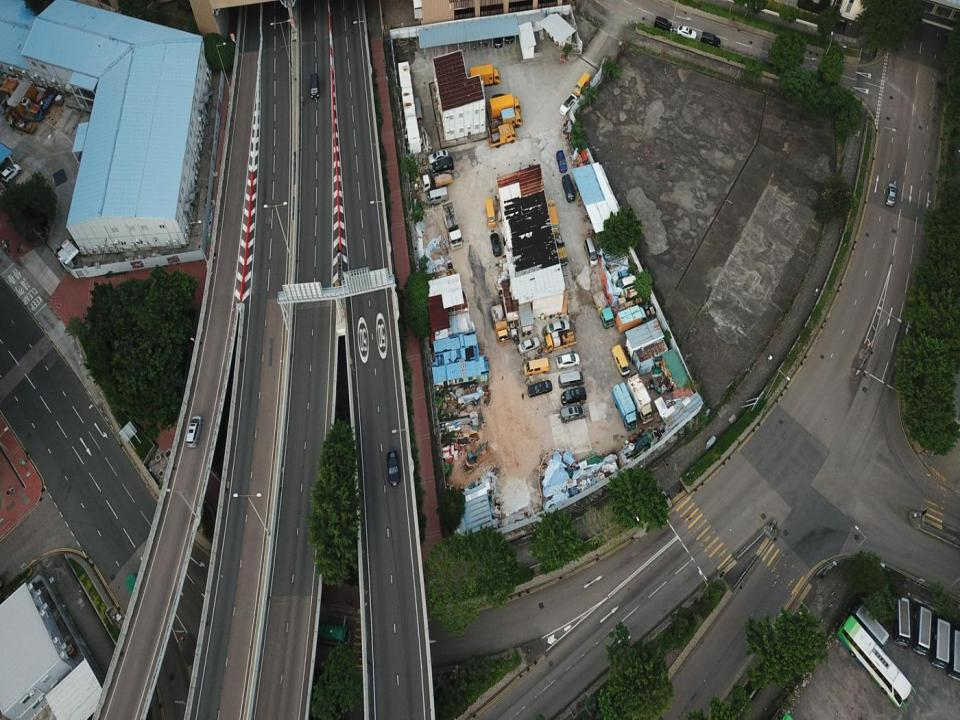bus: (837, 614, 916, 708), (849, 602, 890, 653), (125, 573, 155, 627), (926, 616, 950, 670), (303, 622, 351, 647), (911, 606, 932, 654), (891, 597, 910, 646), (945, 627, 960, 682)
car: (385, 451, 400, 486), (527, 379, 552, 398), (560, 93, 578, 116), (556, 353, 580, 369), (518, 336, 540, 353), (0, 163, 20, 181), (885, 182, 898, 206), (613, 270, 632, 286), (677, 26, 697, 41), (428, 150, 448, 164), (491, 233, 502, 257), (504, 24, 514, 43), (494, 30, 502, 48)
truck: (626, 373, 653, 424), (611, 381, 637, 430), (442, 201, 462, 250), (616, 304, 647, 334), (29, 87, 57, 120), (592, 289, 614, 328), (542, 329, 577, 353), (489, 93, 521, 119), (3, 110, 37, 134), (490, 107, 522, 131), (487, 123, 517, 148), (421, 168, 452, 192), (490, 304, 508, 344), (469, 64, 500, 87), (551, 232, 569, 268)
van: (186, 415, 204, 448), (612, 344, 630, 376), (545, 200, 560, 237), (560, 404, 586, 423), (523, 357, 549, 376), (558, 370, 584, 388), (561, 386, 586, 403), (584, 236, 598, 266), (426, 187, 448, 206), (575, 72, 591, 97), (431, 157, 454, 173), (614, 275, 637, 291), (562, 174, 575, 202), (654, 15, 674, 33), (699, 31, 720, 48), (485, 198, 496, 228), (556, 149, 567, 173), (310, 73, 319, 100)
